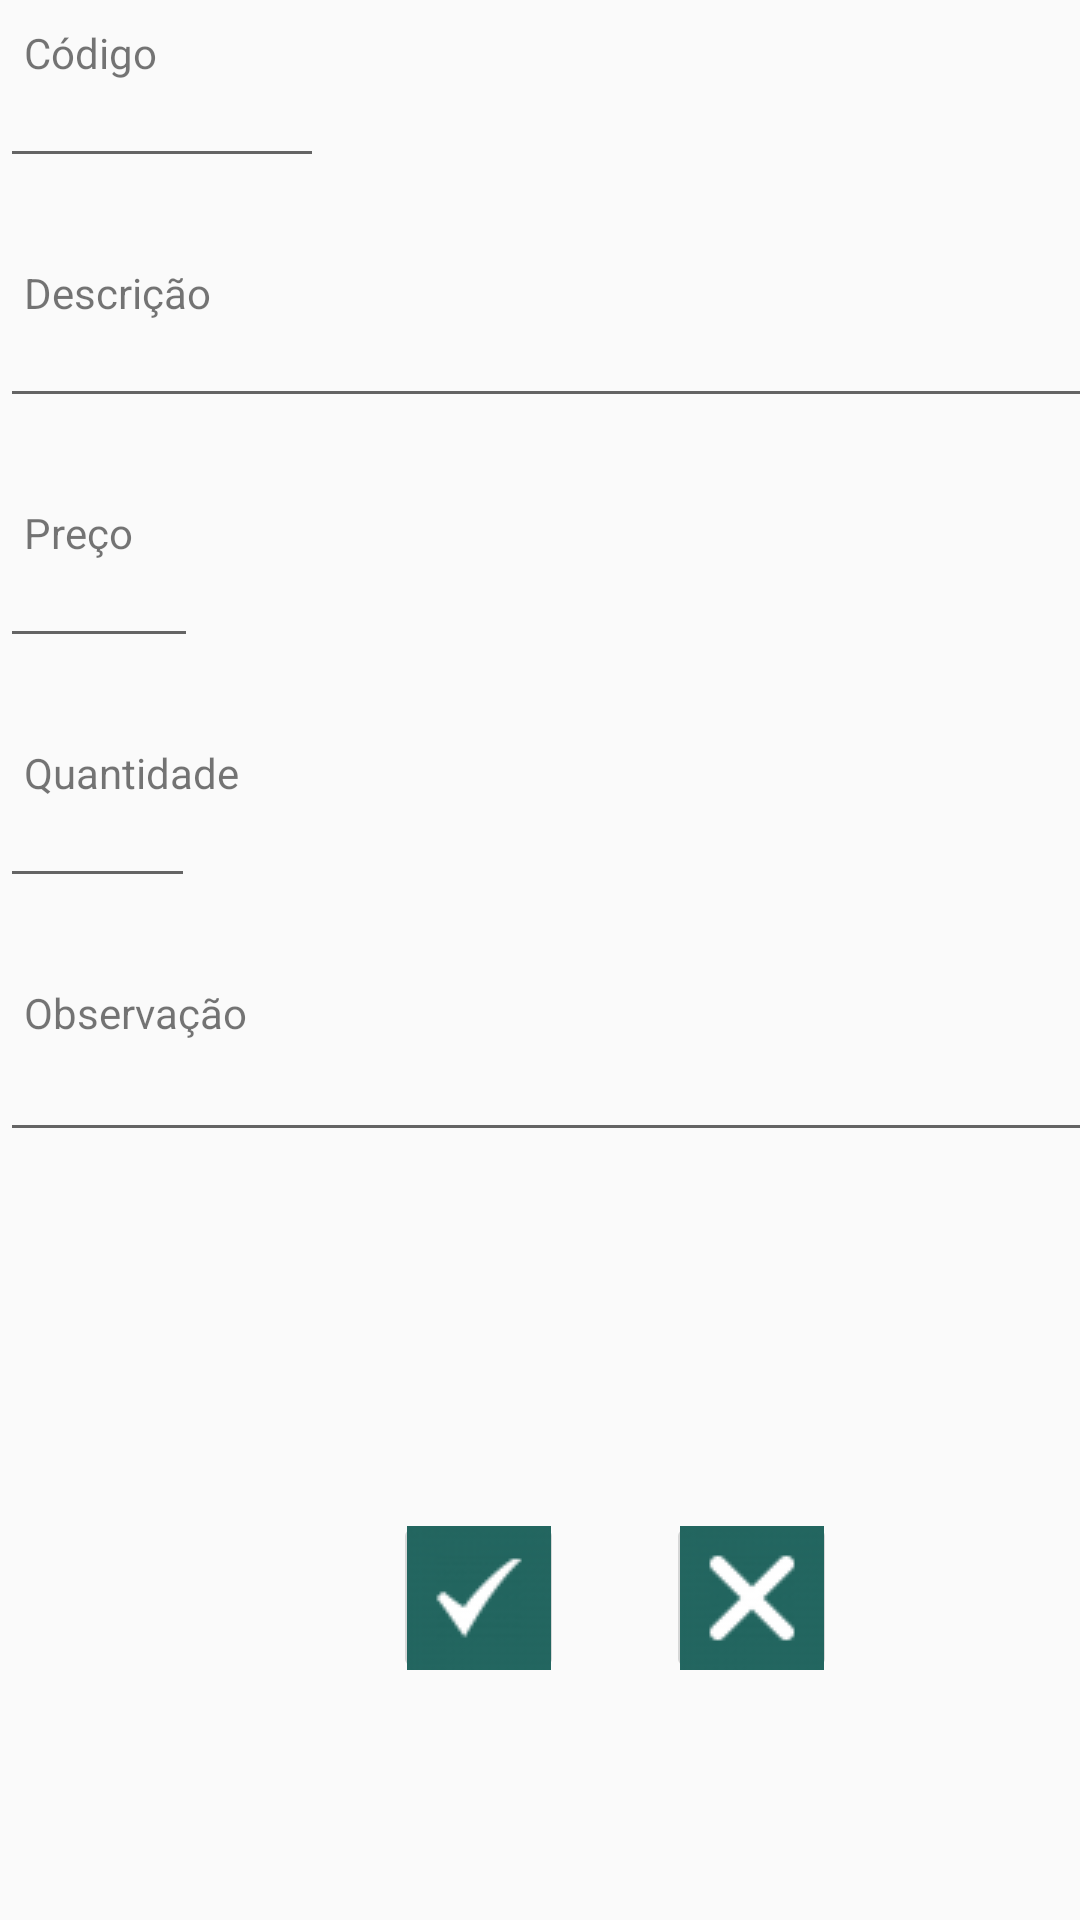

Screen size 1080x1920. Icon name, then its box in pixels as (x1, y1, x2, y2):
cancela: (678, 1526, 825, 1670)
salvar: (405, 1526, 552, 1670)
